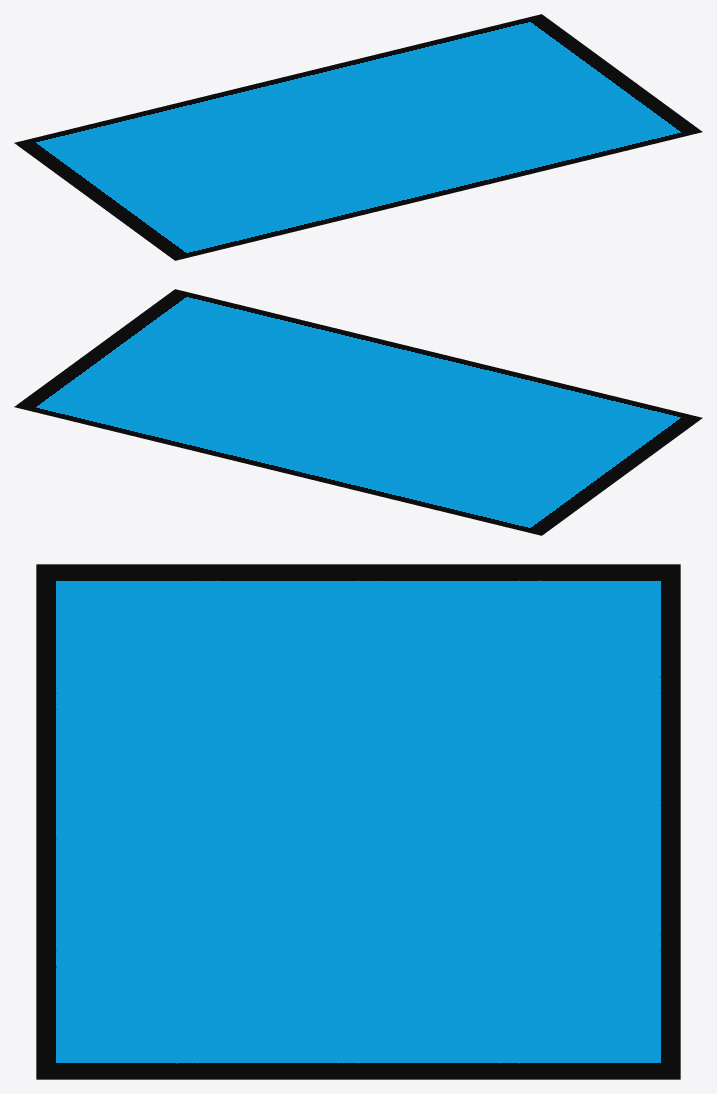
The picture shows the model from 3 angles, top to bottom: view 1: azimuth 30°, elevation 25°; view 2: azimuth 150°, elevation 25°; view 3: azimuth 270°, elevation 25°; orthographic projection. The views are drawn at different scales.
Parts seen in each view (by area): view 1: Plane001; view 2: Plane001; view 3: Plane001.
Boxes of the visible parts, <box> form: Plane001: <box>14,14,702,260</box>; Plane001: <box>14,289,702,535</box>; Plane001: <box>36,564,680,1079</box>.
Bounding box in the file's own units: 134310 × 71026 × 0.
1 material, 1 textured.
